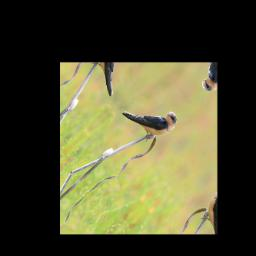Swallow: (117, 78, 183, 154)
